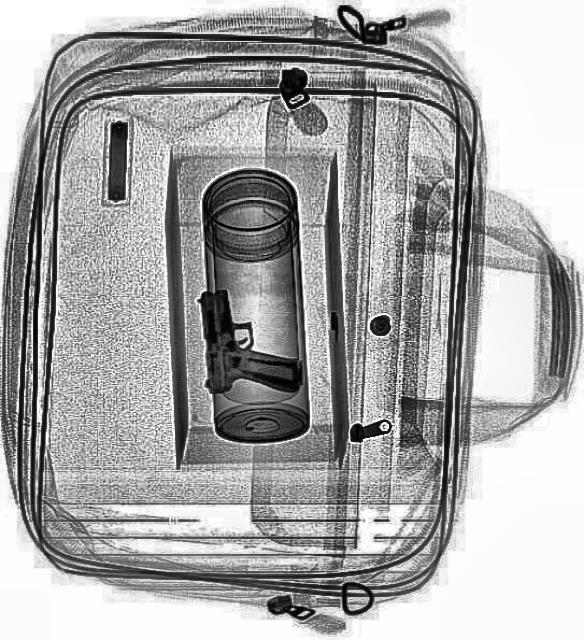Gun: (191, 276, 303, 402)
